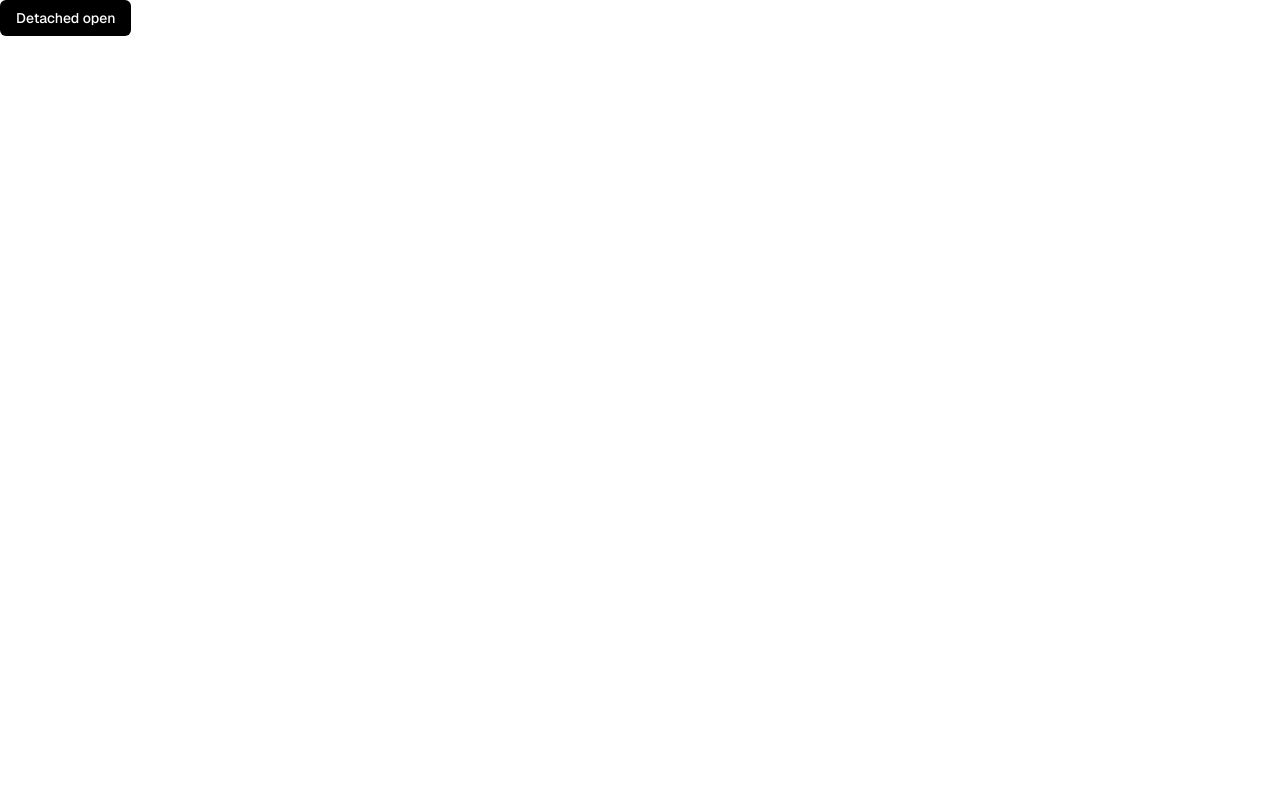
Test: AlertDialog › opens from a detached handle trigger
Click the button "Detached open" at coordinates (66, 18), box 0,0 -> 131,36
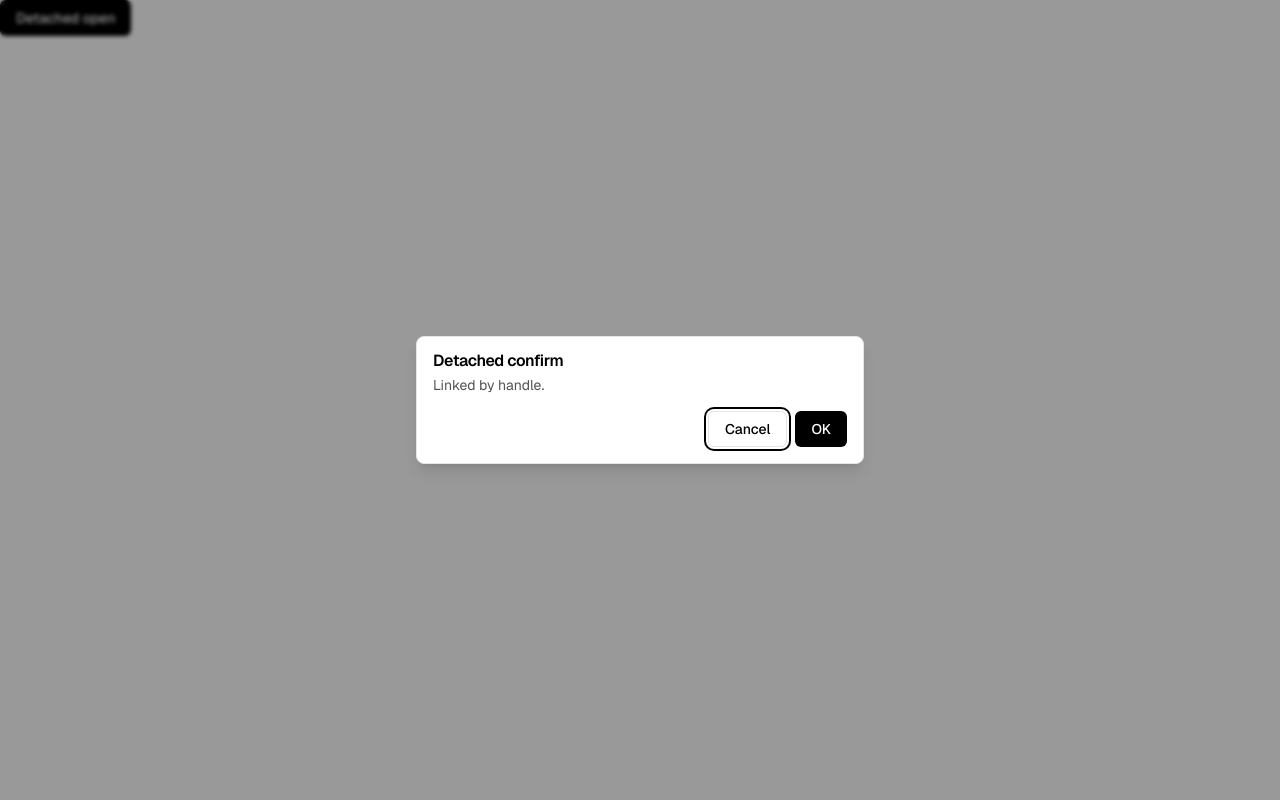
Check: the dialog is shown, box 416,336 -> 864,464
Check: the heading "Detached confirm" is shown, box 433,350 -> 563,371
